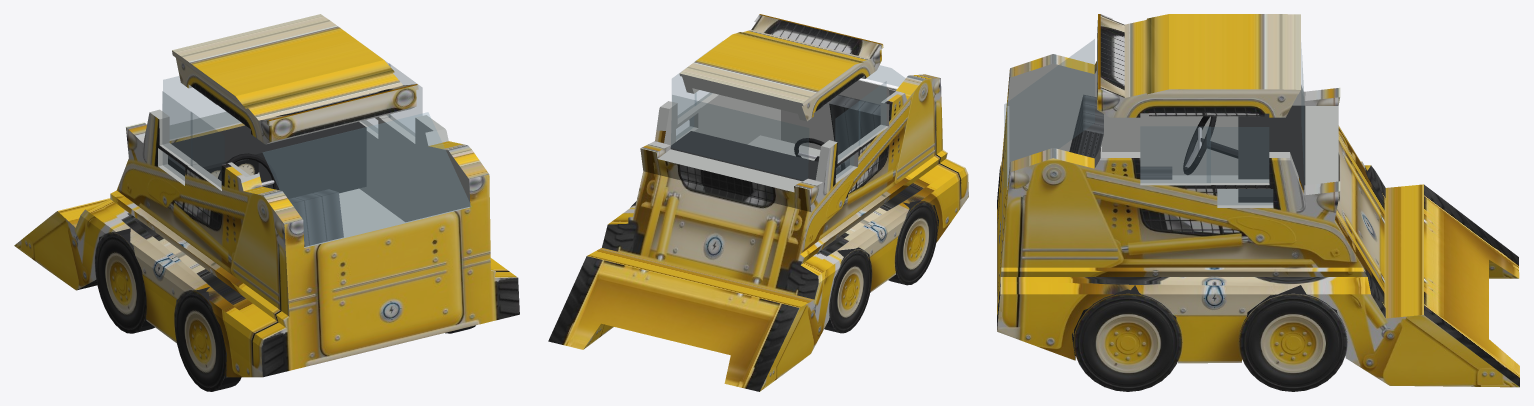
The model's file is skid_steer.glb.
3 renders of one model, left to right at view 1: azimuth 30°, elevation 25°; view 2: azimuth 150°, elevation 25°; view 3: azimuth 270°, elevation 25°, orthographic. The views are drawn at different scales.
Parts seen in each view (by area): view 1: skid_steer, skid_steer_cabin, wheel_BL, wheel_FL; view 2: skid_steer, skid_steer_cabin, wheel_FL, wheel_BL; view 3: skid_steer, skid_steer_cabin, wheel_FR, wheel_BR.
Boxes of the visible parts, x1,y1,x2,y2 form: skid_steer: (14,14,519,377); skid_steer_cabin: (162,61,471,247); wheel_BL: (175,287,241,391); wheel_FL: (95,228,154,333); skid_steer: (548,14,968,391); skid_steer_cabin: (670,48,905,181); wheel_FL: (824,248,871,333); wheel_BL: (888,201,937,285); skid_steer: (997,14,1519,387); skid_steer_cabin: (1004,39,1305,204); wheel_FR: (1239,285,1347,391); wheel_BR: (1073,285,1182,391).
Size of the model in its own units: 1.78 by 1.74 by 3.
11 materials, 4 textured.
